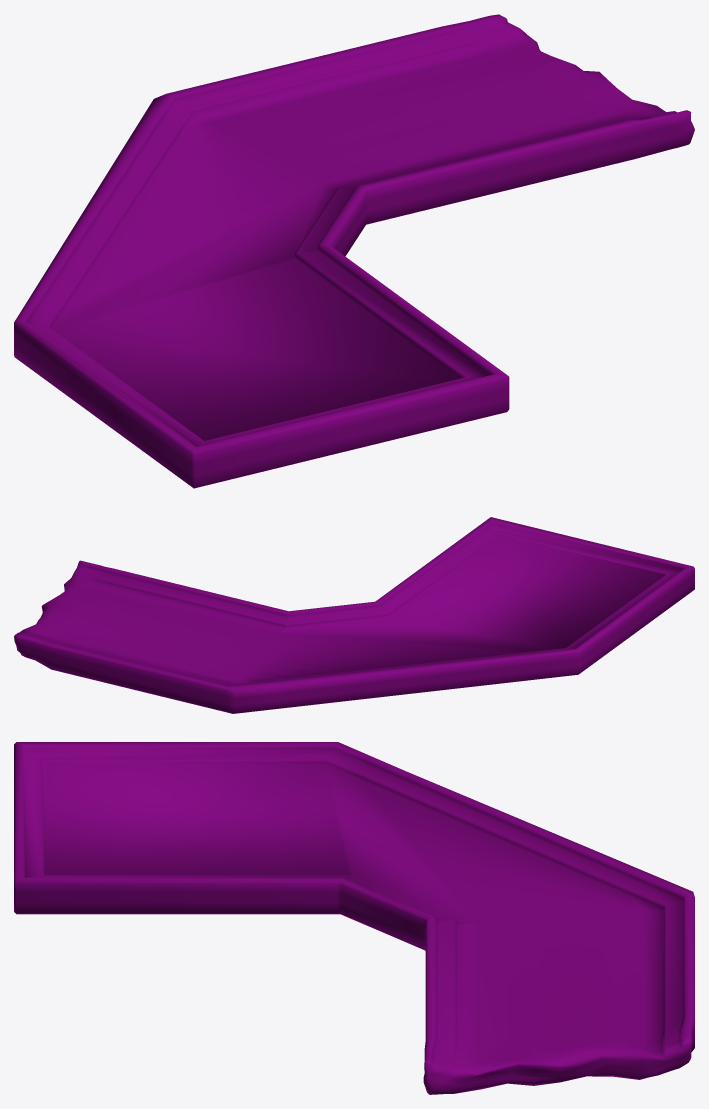
Rendered from W1_Plafond_Salle_1.fbx.
The picture shows the model from 3 angles, top to bottom: view 1: azimuth 30°, elevation 25°; view 2: azimuth 150°, elevation 25°; view 3: azimuth 270°, elevation 25°; orthographic projection. The views are drawn at different scales.
Visible parts, largest first — view 1: W1_Plafond_Salle_1; view 2: W1_Plafond_Salle_1; view 3: W1_Plafond_Salle_1.
Boxes of the visible parts, box(x1,y1,x2,y2) form: W1_Plafond_Salle_1: box(14, 14, 694, 488); W1_Plafond_Salle_1: box(14, 517, 694, 713); W1_Plafond_Salle_1: box(14, 742, 694, 1094).
Size of the model in its own units: 3054 by 167 by 2721.
